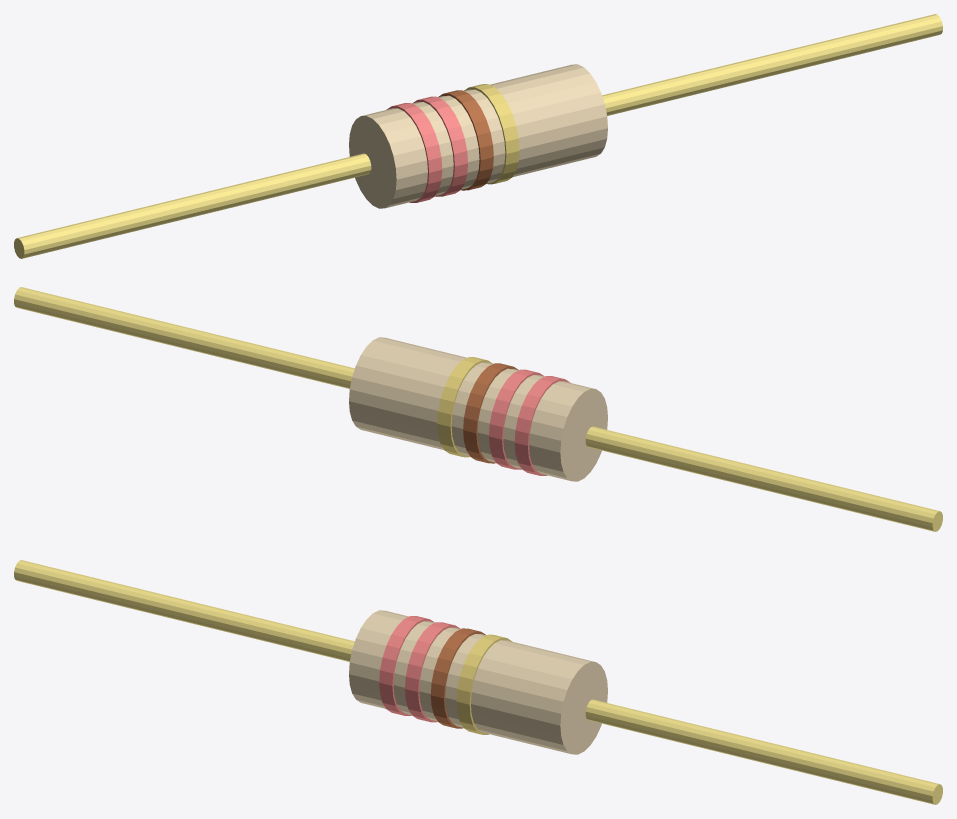
File: resistor.glb
The picture shows the model from 3 angles, top to bottom: view 1: azimuth 30°, elevation 25°; view 2: azimuth 150°, elevation 25°; view 3: azimuth 330°, elevation 25°; orthographic projection.
Visible parts, largest first — view 1: resistor-220ohm_mesh; view 2: resistor-220ohm_mesh; view 3: resistor-220ohm_mesh.
Boxes of the visible parts, <box> form: resistor-220ohm_mesh: <box>14,14,942,258</box>; resistor-220ohm_mesh: <box>14,287,942,531</box>; resistor-220ohm_mesh: <box>14,560,942,804</box>.
Size of the model in its own units: 27.8 by 2.62 by 2.62.
